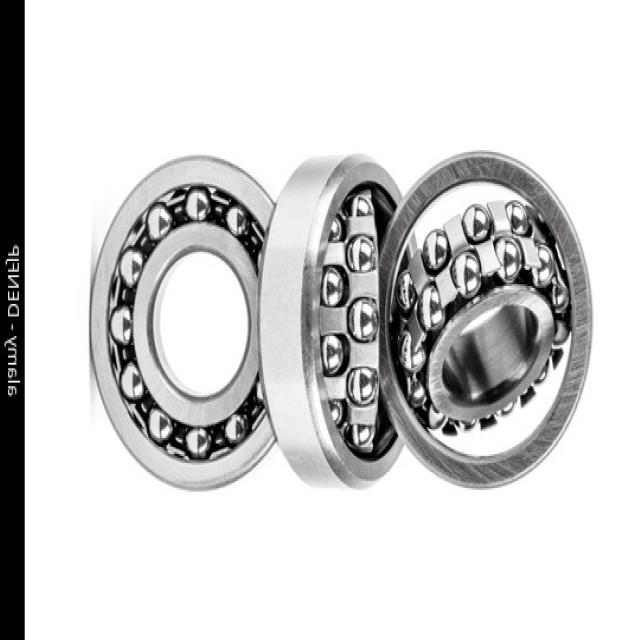Bearing: (378, 149, 592, 490), (86, 152, 298, 494), (257, 150, 415, 494)
